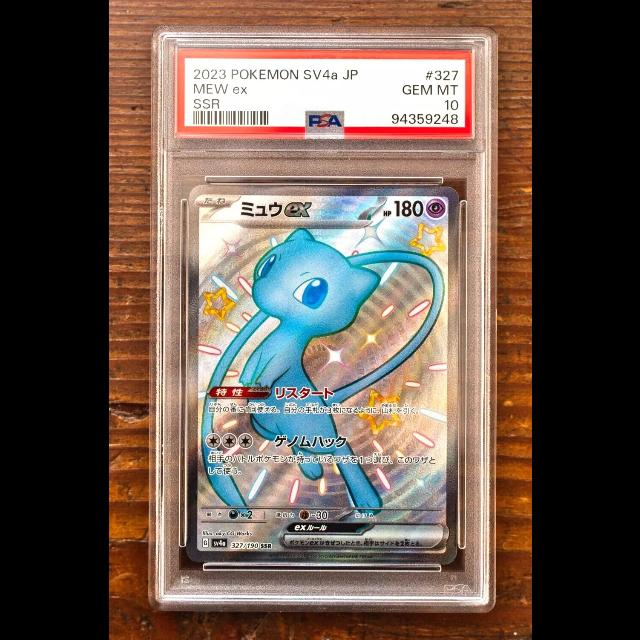card: (185, 184, 459, 565)
psa_label: (173, 48, 473, 137)
psa_slab: (146, 25, 497, 612)
